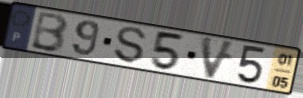5: (147, 29, 190, 73), (234, 43, 270, 86)
9: (70, 19, 101, 58)
B: (28, 11, 70, 54)
S: (113, 26, 149, 66)
V: (200, 34, 239, 81)
